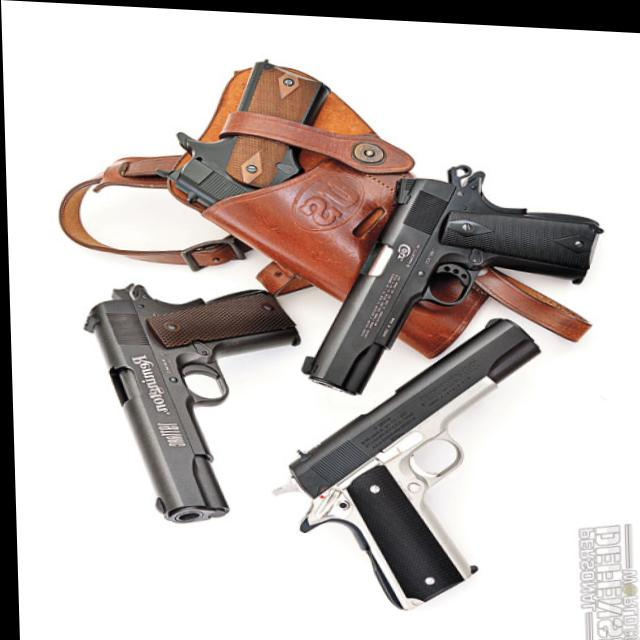handgun: (251, 300, 552, 630), (281, 150, 597, 403), (55, 254, 297, 536)
